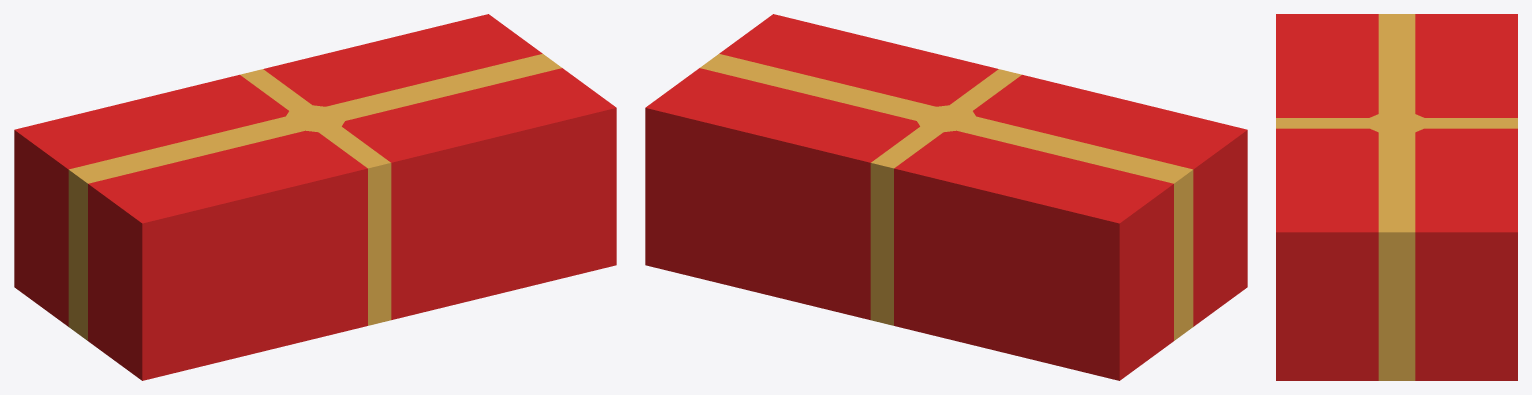
The model's file is present.fbx.
The picture shows the model from 3 angles, left to right: view 1: azimuth 30°, elevation 25°; view 2: azimuth 150°, elevation 25°; view 3: azimuth 270°, elevation 25°; orthographic projection. The views are drawn at different scales.
Visible parts, largest first — view 1: Cube; view 2: Cube; view 3: Cube.
Part boxes in pixels (x1,y1,x2,y2): Cube: [14, 14, 616, 380]; Cube: [645, 14, 1247, 380]; Cube: [1276, 14, 1517, 380].
Bounding box in the file's own units: 631 × 200 × 295.
